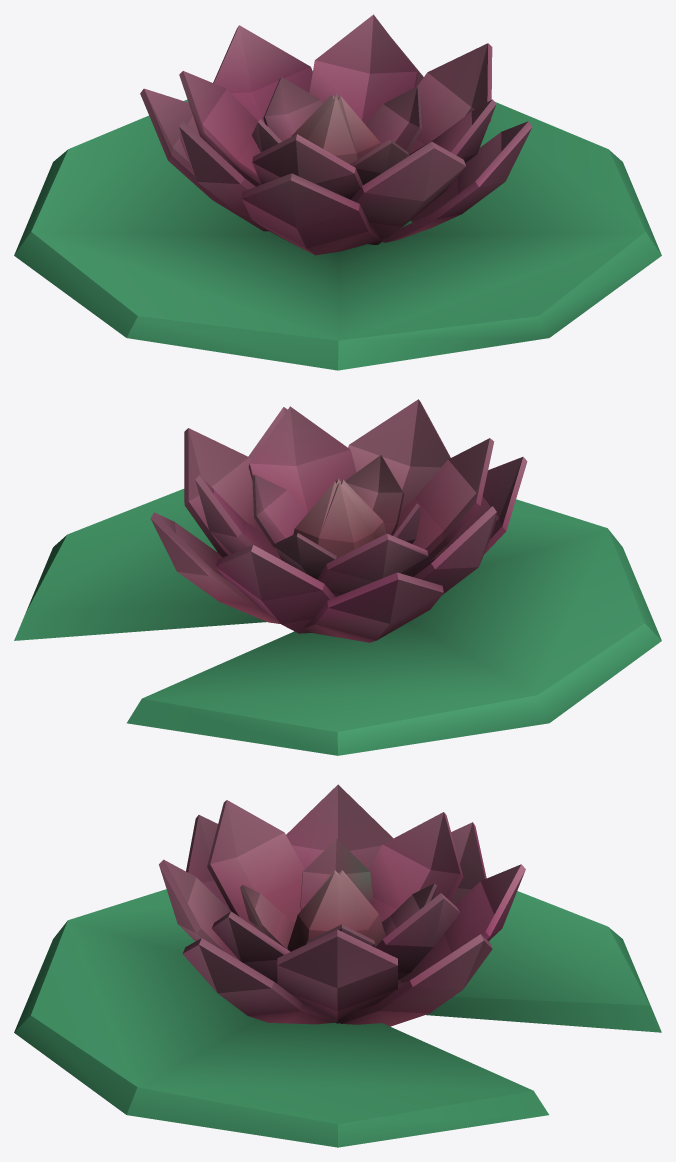
Rendered from LilyPad.glb.
3 renders of one model, top to bottom at view 1: azimuth 30°, elevation 25°; view 2: azimuth 150°, elevation 25°; view 3: azimuth 270°, elevation 25°, orthographic.
Visible parts, largest first — view 1: node-0; view 2: node-0; view 3: node-0.
Part boxes in pixels (x1,y1,x2,y2): node-0: [14, 14, 661, 370]; node-0: [14, 399, 661, 755]; node-0: [14, 784, 661, 1147].
Size of the model in its own units: 0.5475 by 0.1531 by 0.556.
